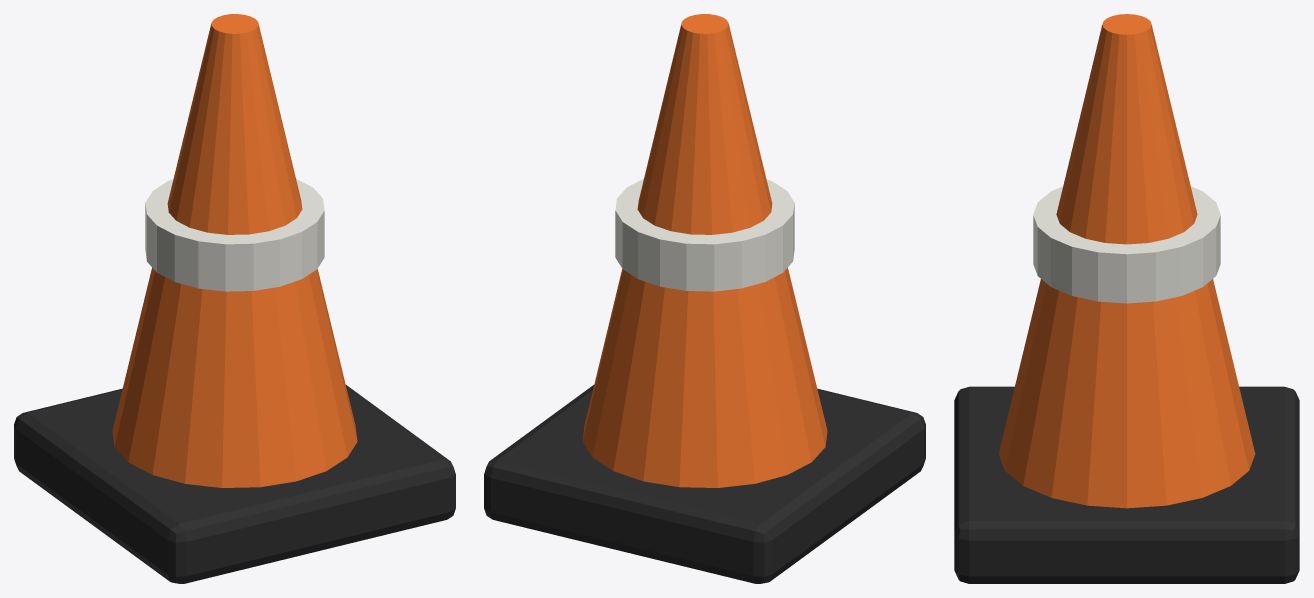
File: traffic_cone.glb
3 renders of one model, left to right at view 1: azimuth 30°, elevation 25°; view 2: azimuth 150°, elevation 25°; view 3: azimuth 270°, elevation 25°, orthographic. The views are drawn at different scales.
Visible parts, largest first — view 1: Cone_Body, Cone_Base, Reflective_Band; view 2: Cone_Body, Cone_Base, Reflective_Band; view 3: Cone_Body, Cone_Base, Reflective_Band.
Part boxes in pixels (x1,y1,x2,y2): Cone_Body: [112, 14, 357, 487]; Cone_Base: [14, 385, 455, 583]; Reflective_Band: [145, 179, 324, 291]; Cone_Body: [582, 14, 827, 487]; Cone_Base: [484, 385, 925, 583]; Reflective_Band: [615, 179, 794, 291]; Cone_Body: [998, 14, 1255, 508]; Cone_Base: [954, 386, 1299, 583]; Reflective_Band: [1033, 186, 1220, 303].
Bounding box in the file's own units: 0.35 × 0.55 × 0.35.
